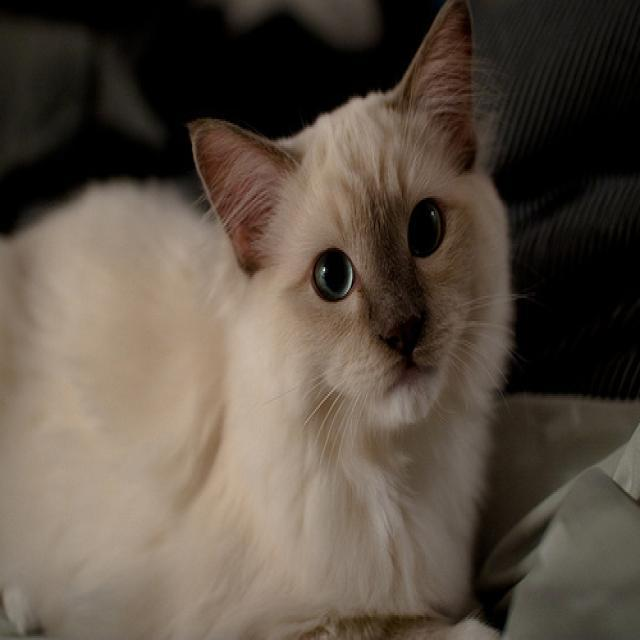Ragdoll: (190, 0, 513, 430)
